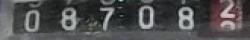digits: (218, 0, 237, 32), (177, 5, 194, 29), (138, 4, 154, 28), (59, 7, 76, 29), (98, 5, 113, 29), (24, 8, 40, 30)
